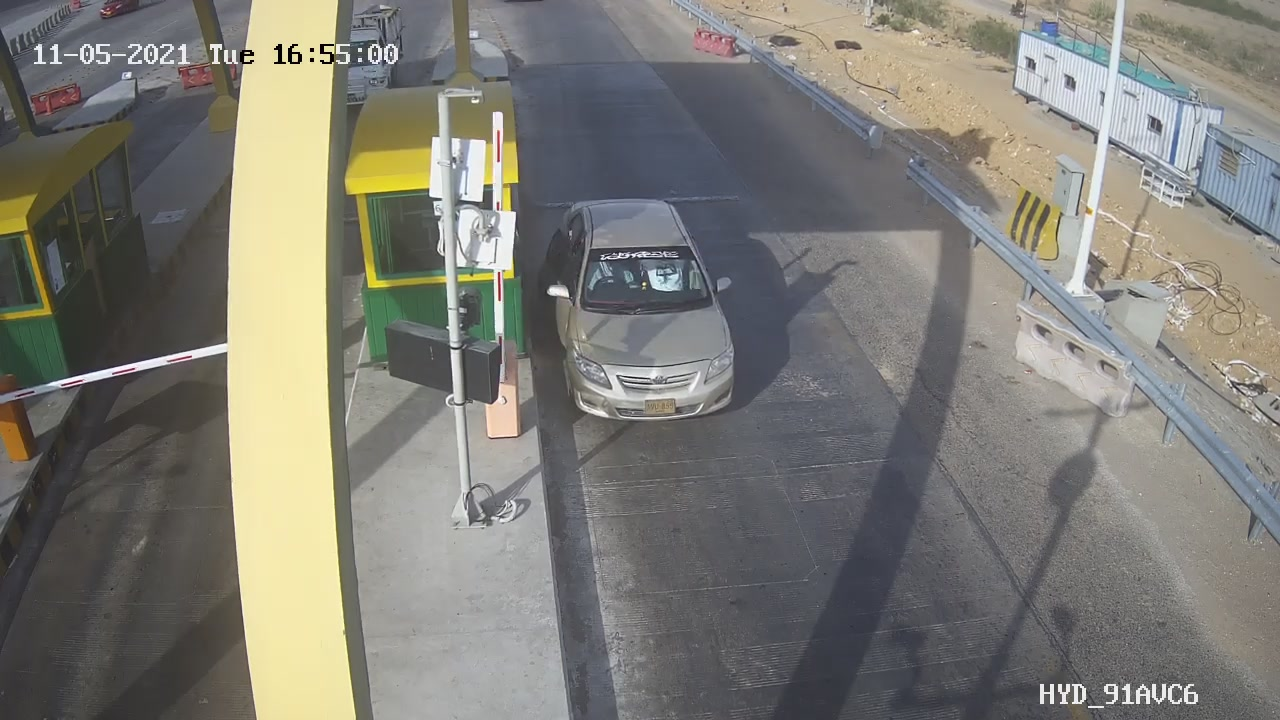F1: (524, 182, 766, 442)
